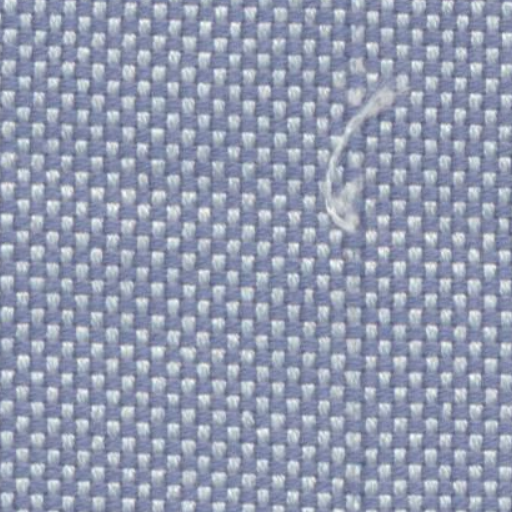DuanSha: (314, 76, 405, 251)
